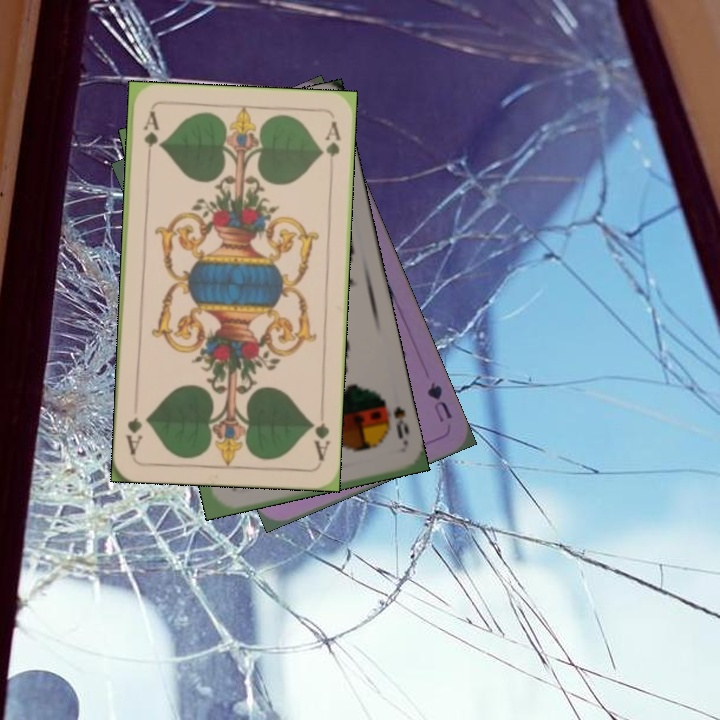GA: (306, 417, 333, 463), (140, 107, 161, 166)
GU: (423, 378, 455, 425)
SO: (377, 393, 412, 448)
